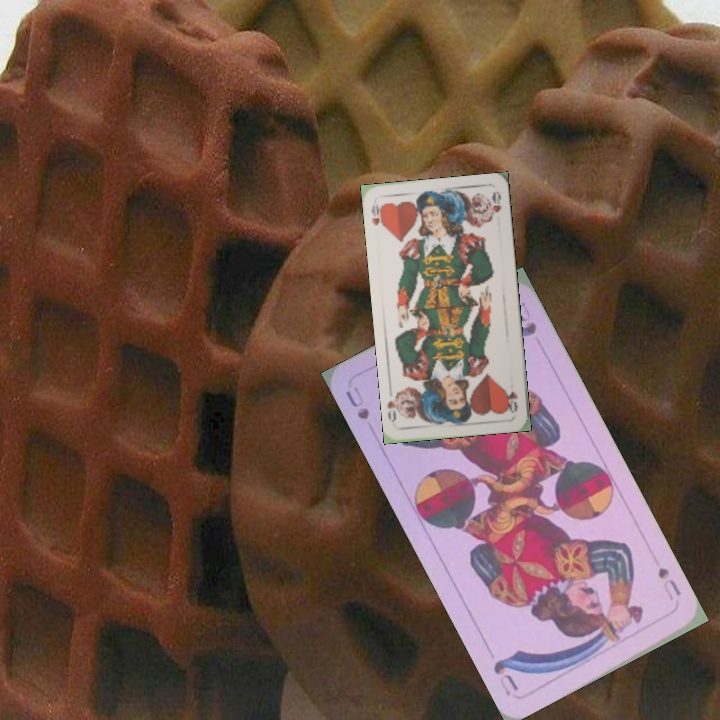HO: (367, 200, 387, 231), (504, 388, 521, 415)
SU: (341, 383, 372, 423), (653, 563, 684, 603)
